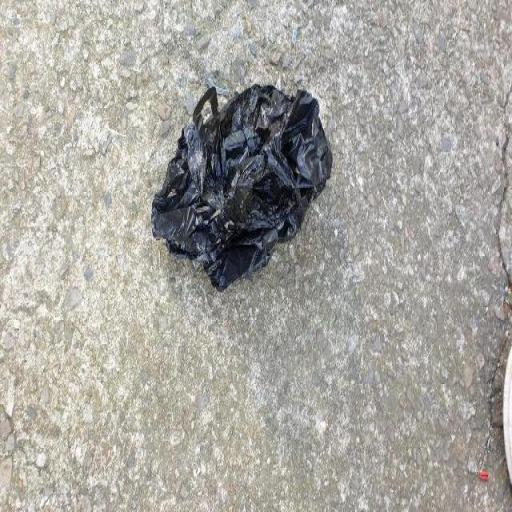plastic-bag: (150, 78, 336, 296)
